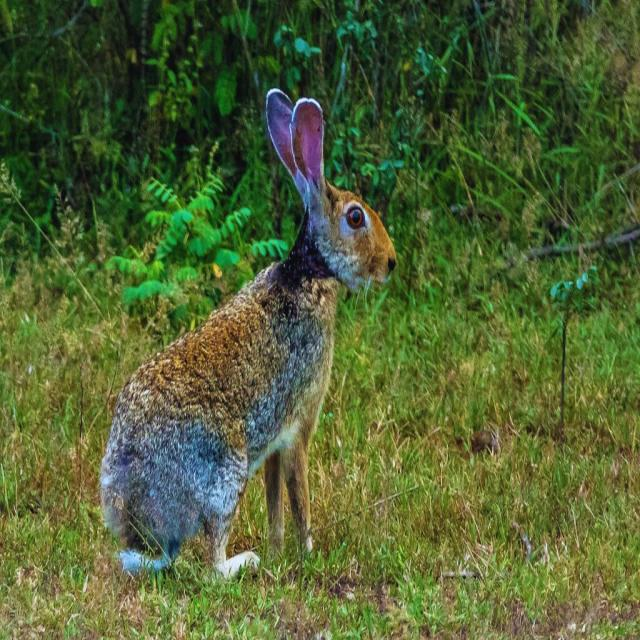Hare: (102, 78, 404, 586)
